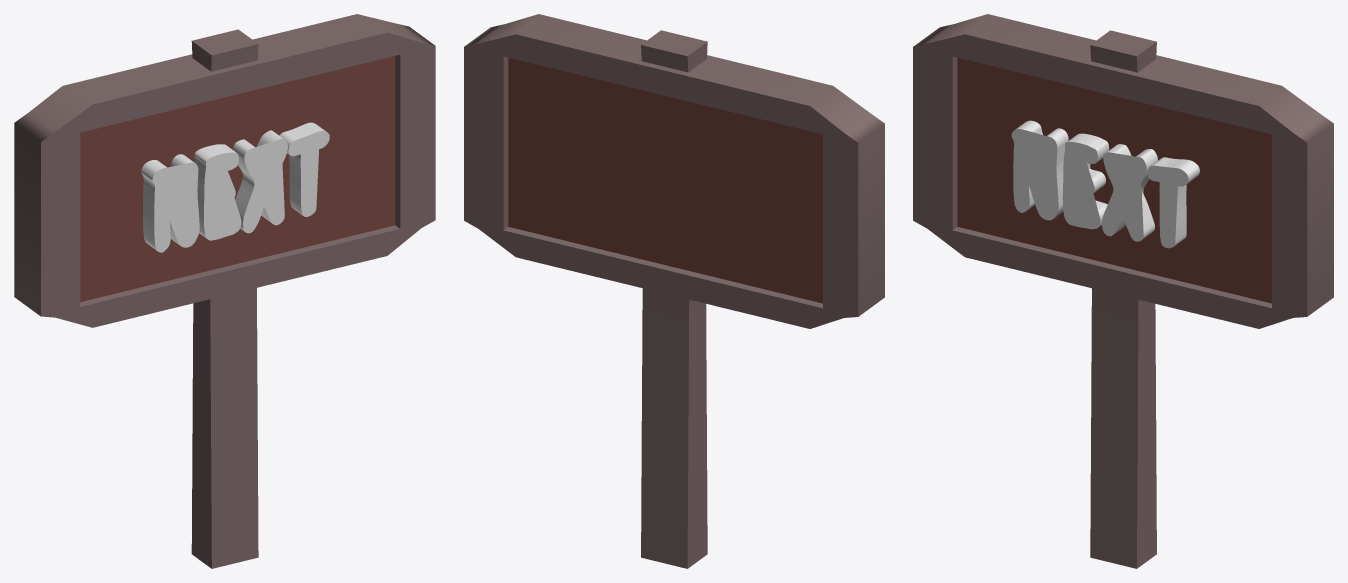
The model's file is howto_next.fbx.
3 views of the same model, side by side, from view 1: azimuth 30°, elevation 25°; view 2: azimuth 150°, elevation 25°; view 3: azimuth 330°, elevation 25° (orthographic).
Parts seen in each view (by area): view 1: start2; view 2: start2; view 3: start2.
Part boxes in pixels (x1,y1,x2,y2): start2: (14, 14, 435, 568); start2: (464, 14, 884, 568); start2: (913, 14, 1333, 568).
Size of the model in its own units: 4.78 by 5.94 by 0.6949.
